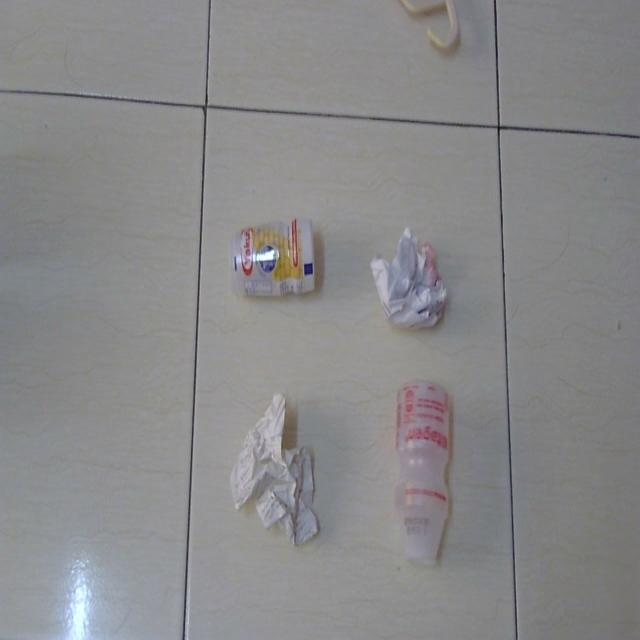paperrotation: (225, 387, 322, 555), (368, 217, 450, 346)
plastic_laydown_0rotation: (228, 213, 320, 298)
plastic_laydown_90rotation: (384, 367, 463, 570)
